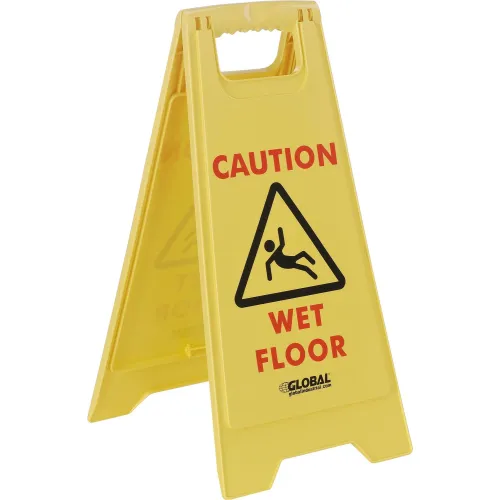wet caution sign: (104, 12, 428, 490)
